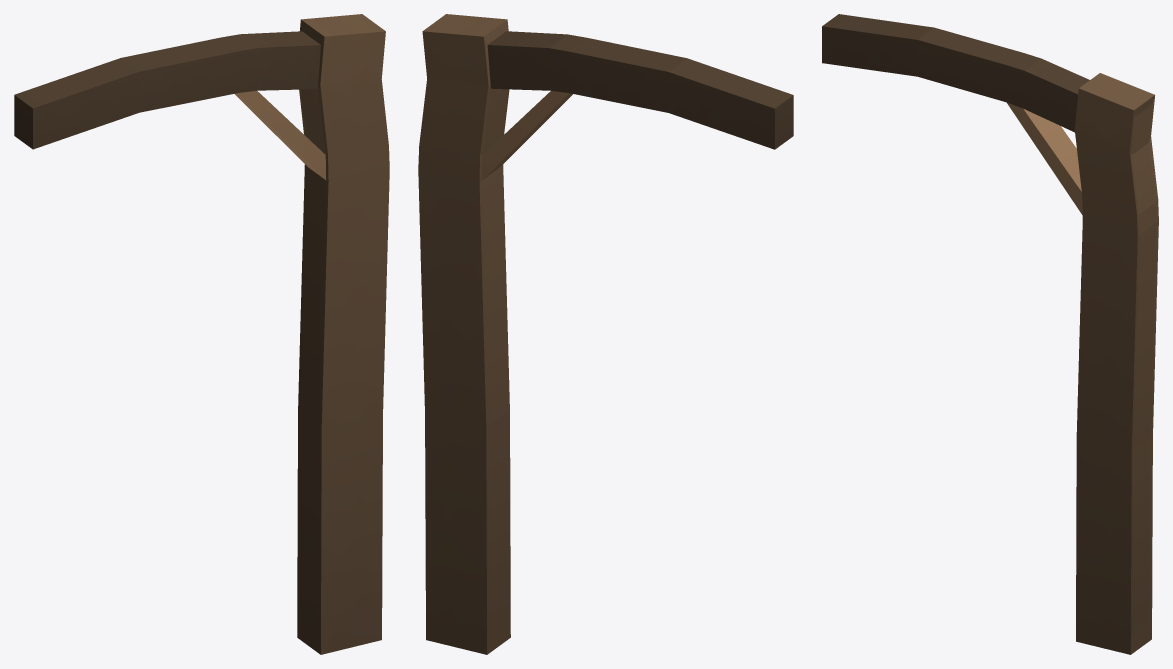
File: lamp_post.obj
The picture shows the model from 3 angles, left to right: view 1: azimuth 30°, elevation 25°; view 2: azimuth 150°, elevation 25°; view 3: azimuth 330°, elevation 25°; orthographic projection. The views are drawn at different scales.
Parts seen in each view (by area): view 1: lamp_post; view 2: lamp_post; view 3: lamp_post.
Part boxes in pixels (left/top/right/bottom): lamp_post: left=14, top=14, right=389, bottom=654; lamp_post: left=418, top=14, right=793, bottom=654; lamp_post: left=822, top=14, right=1158, bottom=654.
Size of the model in its own units: 1.2 by 2.02 by 0.1412.
